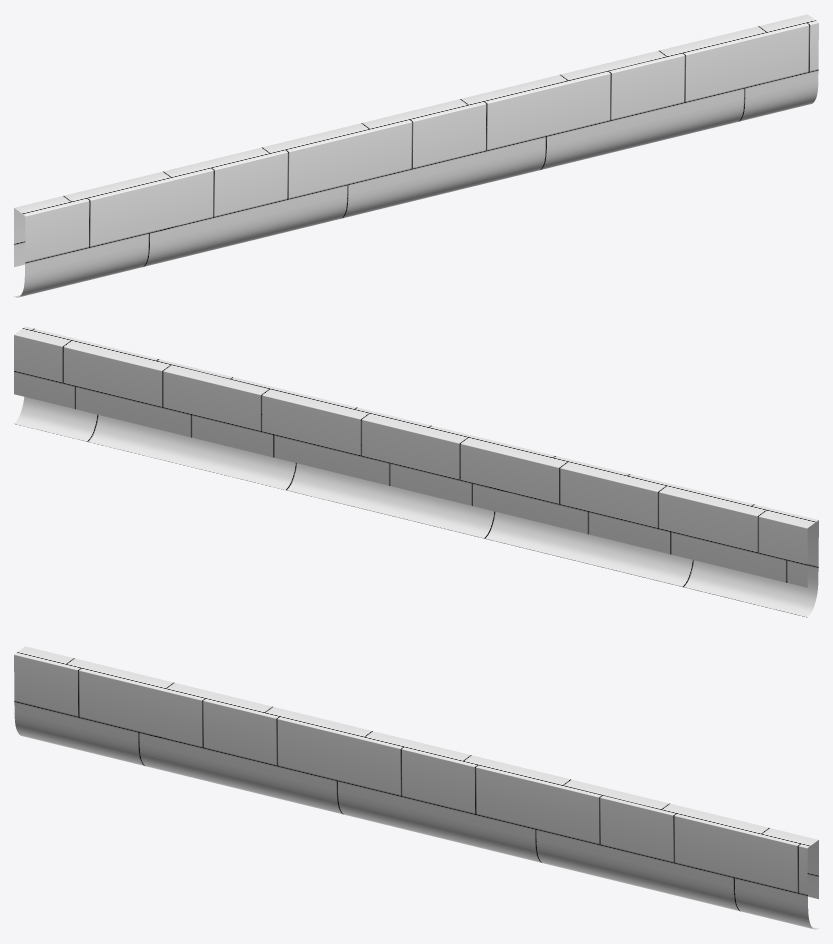
Rendered from Parapet01_1400cm.FBX.
3 renders of one model, top to bottom at view 1: azimuth 30°, elevation 25°; view 2: azimuth 150°, elevation 25°; view 3: azimuth 330°, elevation 25°, orthographic.
Parts seen in each view (by area): view 1: Parapet01_1400cm; view 2: Parapet01_1400cm; view 3: Parapet01_1400cm.
Boxes of the visible parts, x1,y1,x2,y2 form: Parapet01_1400cm: [14, 14, 818, 297]; Parapet01_1400cm: [14, 326, 818, 617]; Parapet01_1400cm: [14, 646, 818, 929].
Size of the model in its own units: 1400 by 150 by 35.13.
